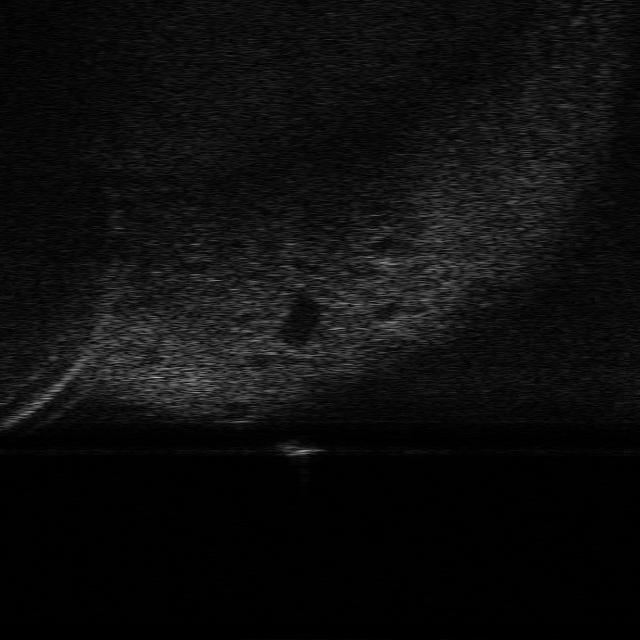cube: (270, 440, 330, 458)
